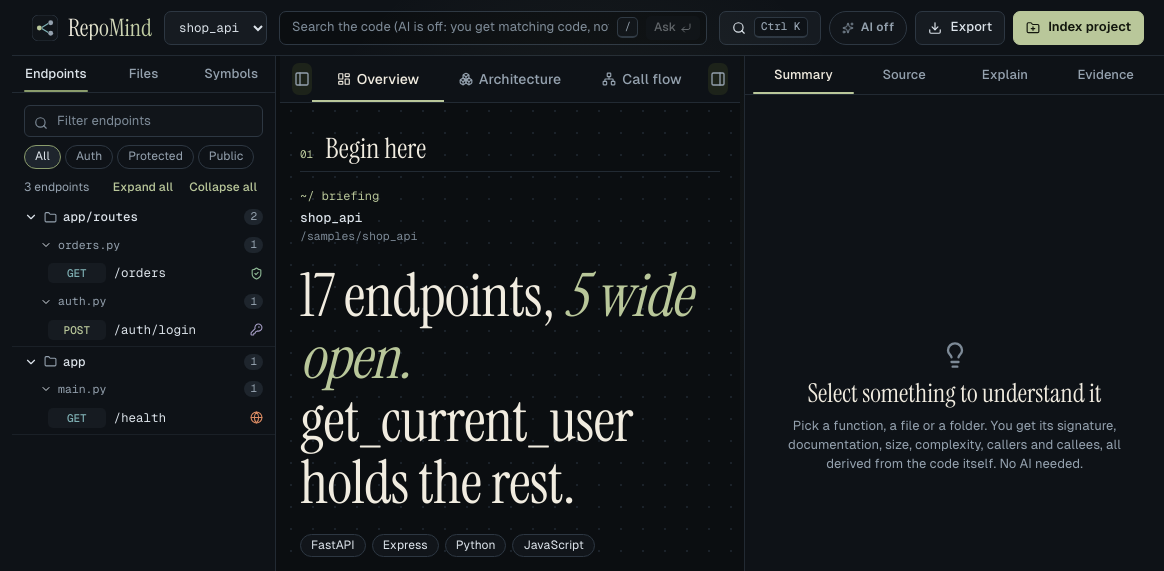
Test: Call flow › shows the same graph as an accessible text outline
The width and height of the screenshot is (1164, 571).
What coordinates should you click on to do the following:
click the text "/auth/login"
I would click on:
 (155, 329)
Its box is [114, 321, 196, 338].
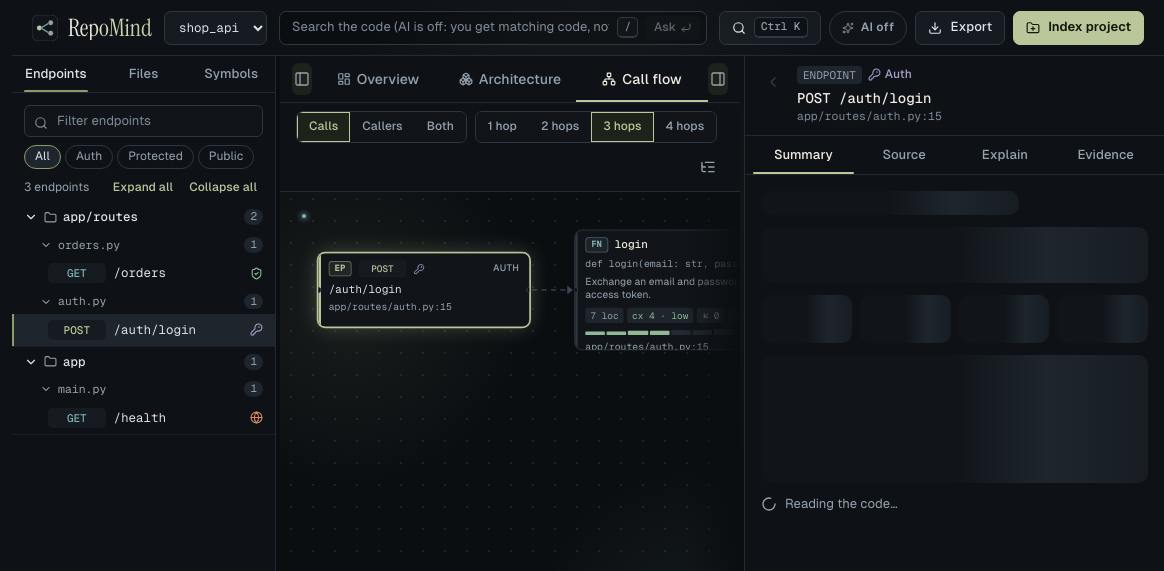
What coordinates should you click on to do the following:
click the button named "Show as outline (text)"
I would click on:
 (708, 167)
Its box is [692, 151, 724, 183].
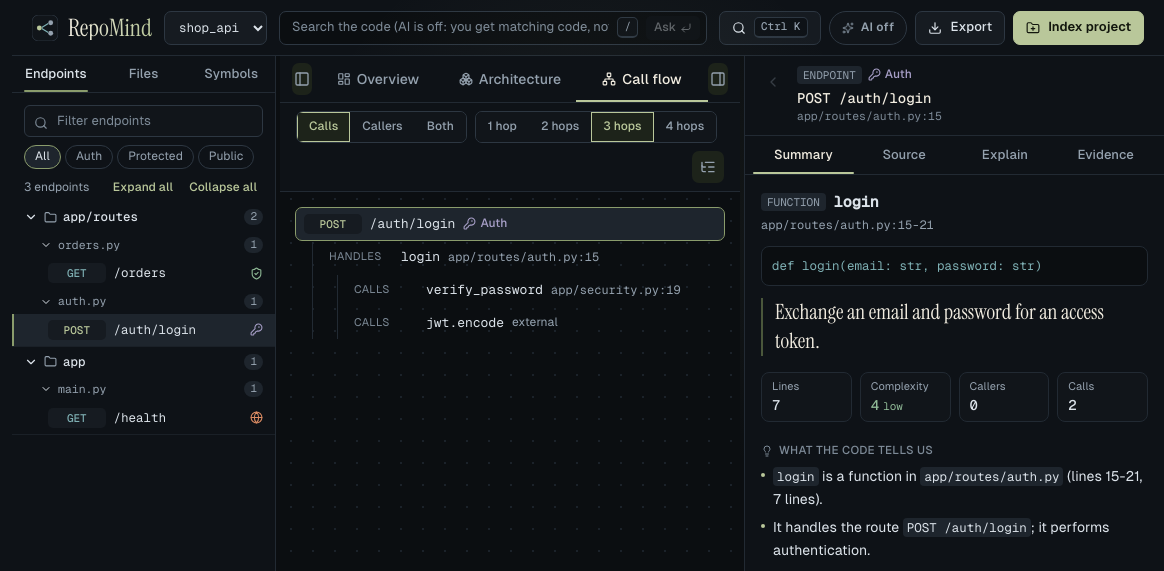
expect the text "verify_password" is shown: met, box [426, 281, 543, 300]
expect the text "jwt.encode" is shown: met, box [426, 314, 504, 332]
